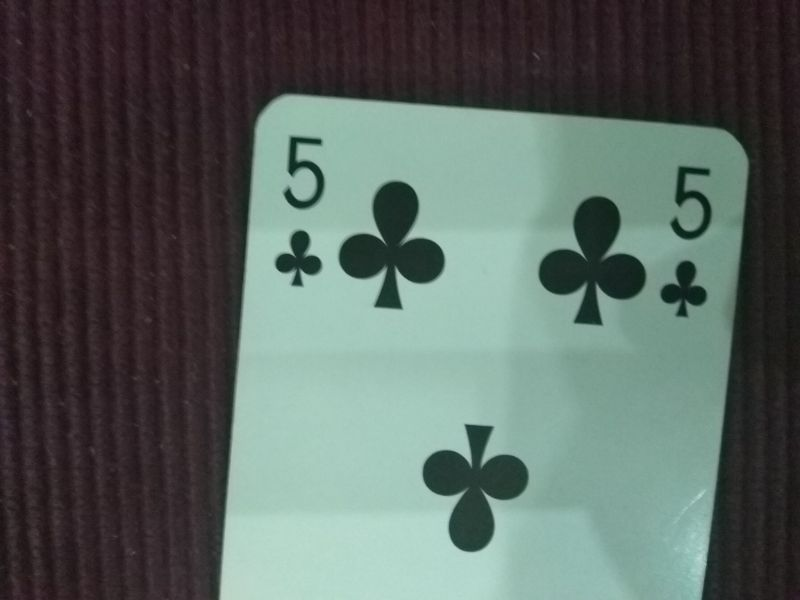5c: (656, 164, 719, 328), (270, 129, 330, 292)
